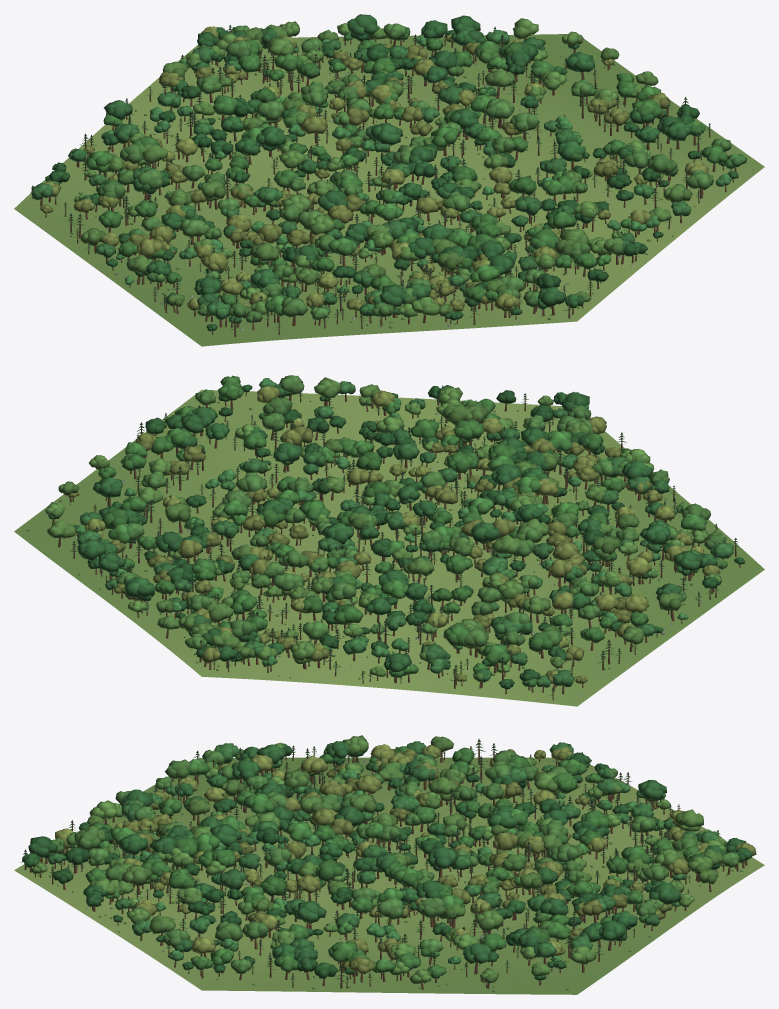
3 renders of one model, top to bottom at view 1: azimuth 30°, elevation 25°; view 2: azimuth 150°, elevation 25°; view 3: azimuth 270°, elevation 25°, orthographic.
Parts seen in each view (by area): view 1: broadleaf_canopy, terrain, trunks, conifer_canopy; view 2: broadleaf_canopy, terrain, trunks, conifer_canopy; view 3: broadleaf_canopy, terrain, trunks, conifer_canopy, shrubs.
Boxes of the visible parts, x1=… form: broadleaf_canopy: x1=31, y1=14, x2=746, y2=331; terrain: x1=14, y1=34, x2=764, y2=346; trunks: x1=32, y1=26, x2=736, y2=337; conifer_canopy: x1=30, y1=25, x2=731, y2=329; broadleaf_canopy: x1=45, y1=375, x2=745, y2=689; terrain: x1=14, y1=389, x2=764, y2=706; trunks: x1=52, y1=386, x2=740, y2=700; conifer_canopy: x1=70, y1=385, x2=740, y2=695; broadleaf_canopy: x1=22, y1=735, x2=756, y2=983; terrain: x1=14, y1=757, x2=764, y2=994; trunks: x1=24, y1=740, x2=747, y2=989; conifer_canopy: x1=20, y1=739, x2=743, y2=982; shrubs: x1=38, y1=760, x2=745, y2=992.
Size of the model in its own units: 4330 by 496 by 5000.
